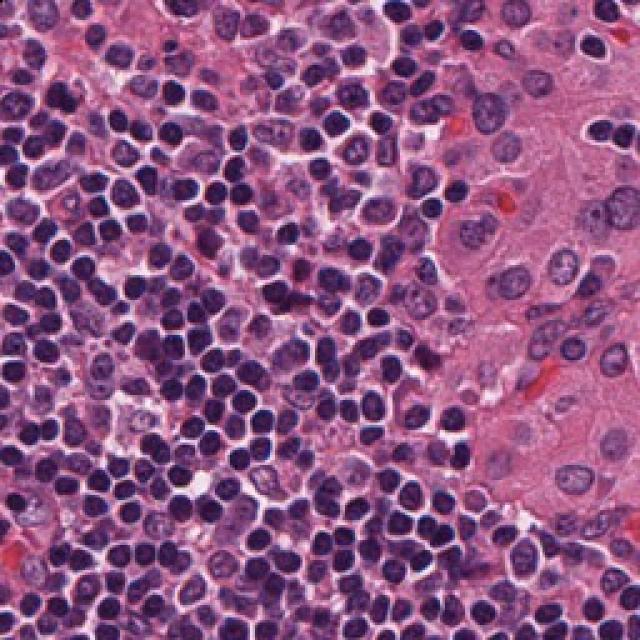abnormal: (530, 439, 622, 542), (516, 218, 607, 310), (445, 189, 508, 305), (453, 66, 531, 151), (454, 424, 528, 511), (577, 154, 640, 245), (581, 312, 640, 401), (474, 0, 547, 60)
